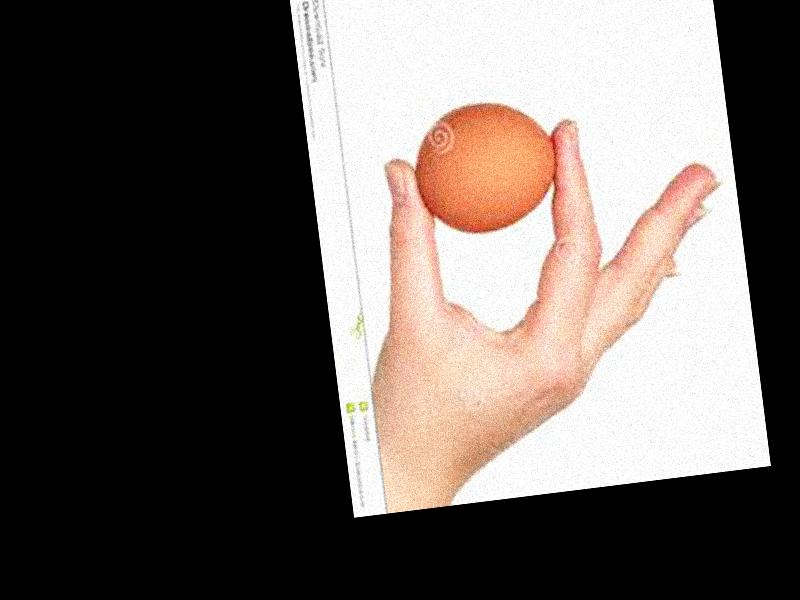Eggs: (406, 93, 564, 242)
